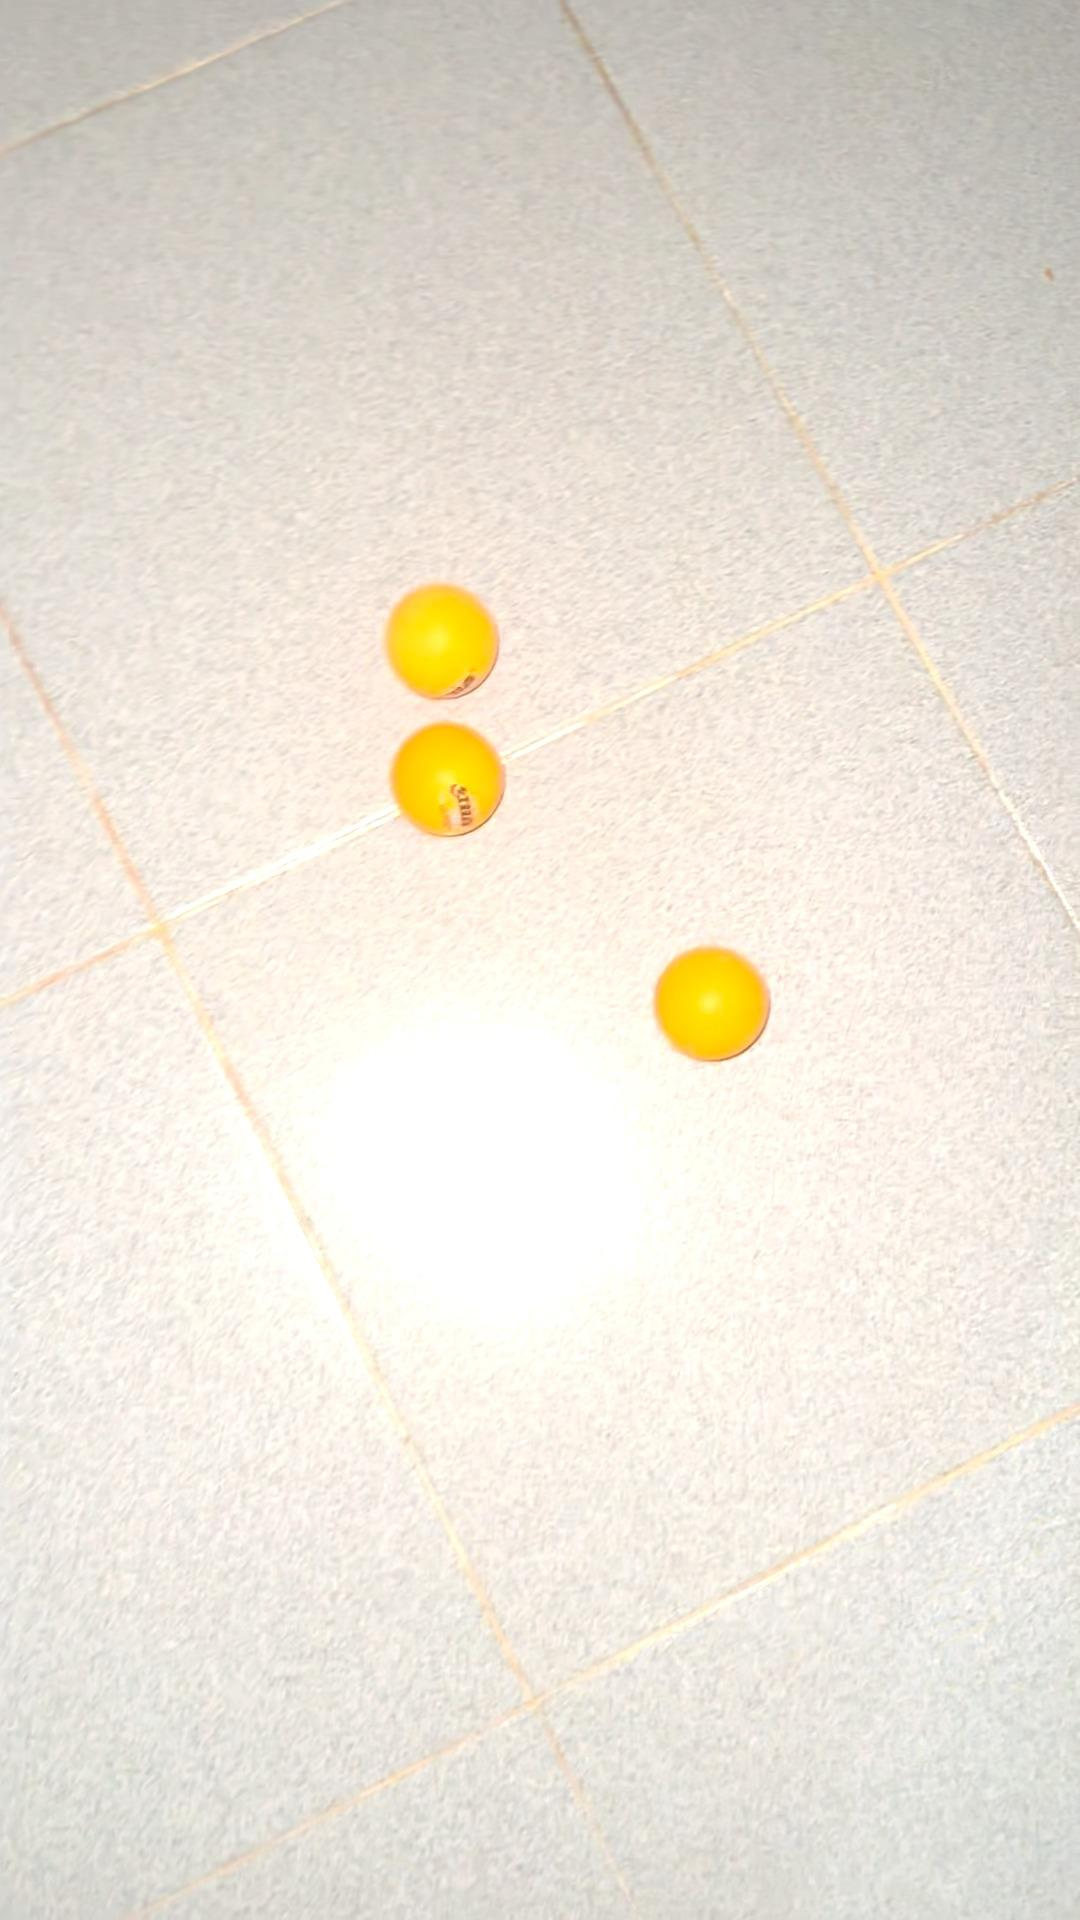oball: (385, 711, 522, 851), (638, 931, 777, 1065), (381, 582, 516, 707)
